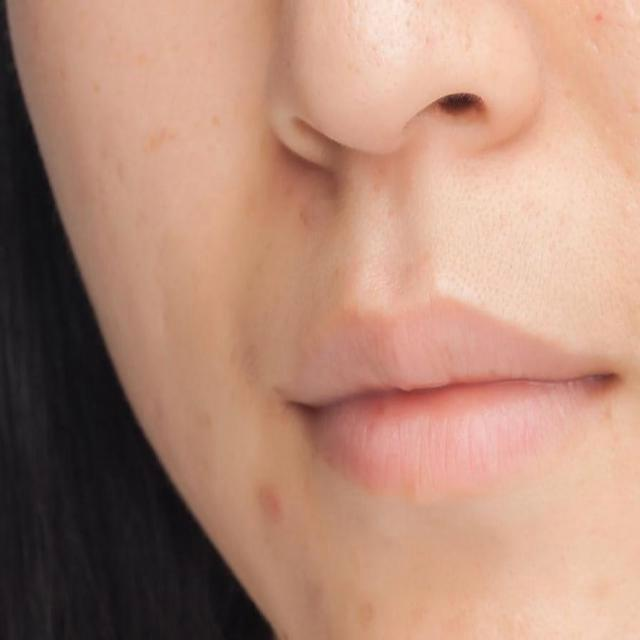Pimples: (264, 481, 284, 528)
